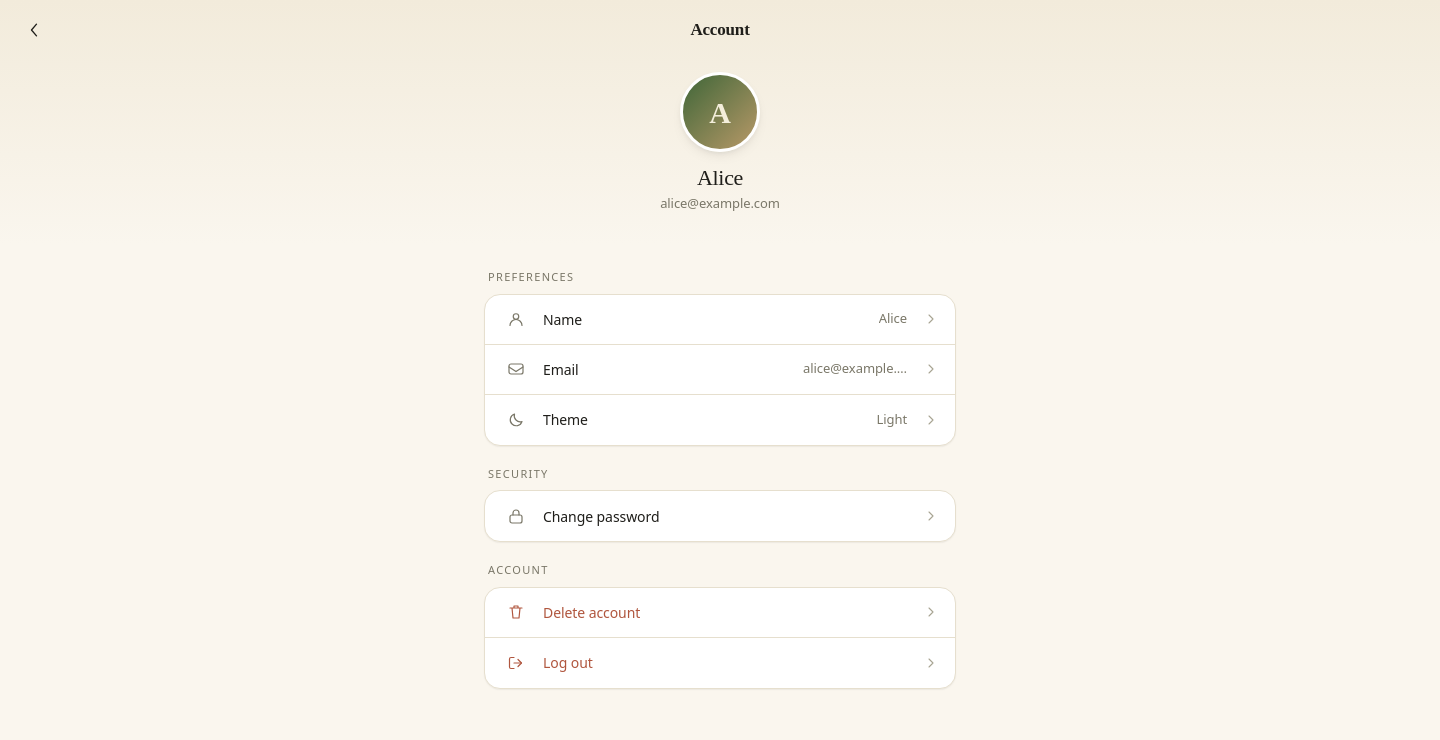
Test: AccountPage › shows validation error when saving an empty name
The image size is (1440, 740).
Click the text "Name": (563,319) [543, 310, 582, 328]
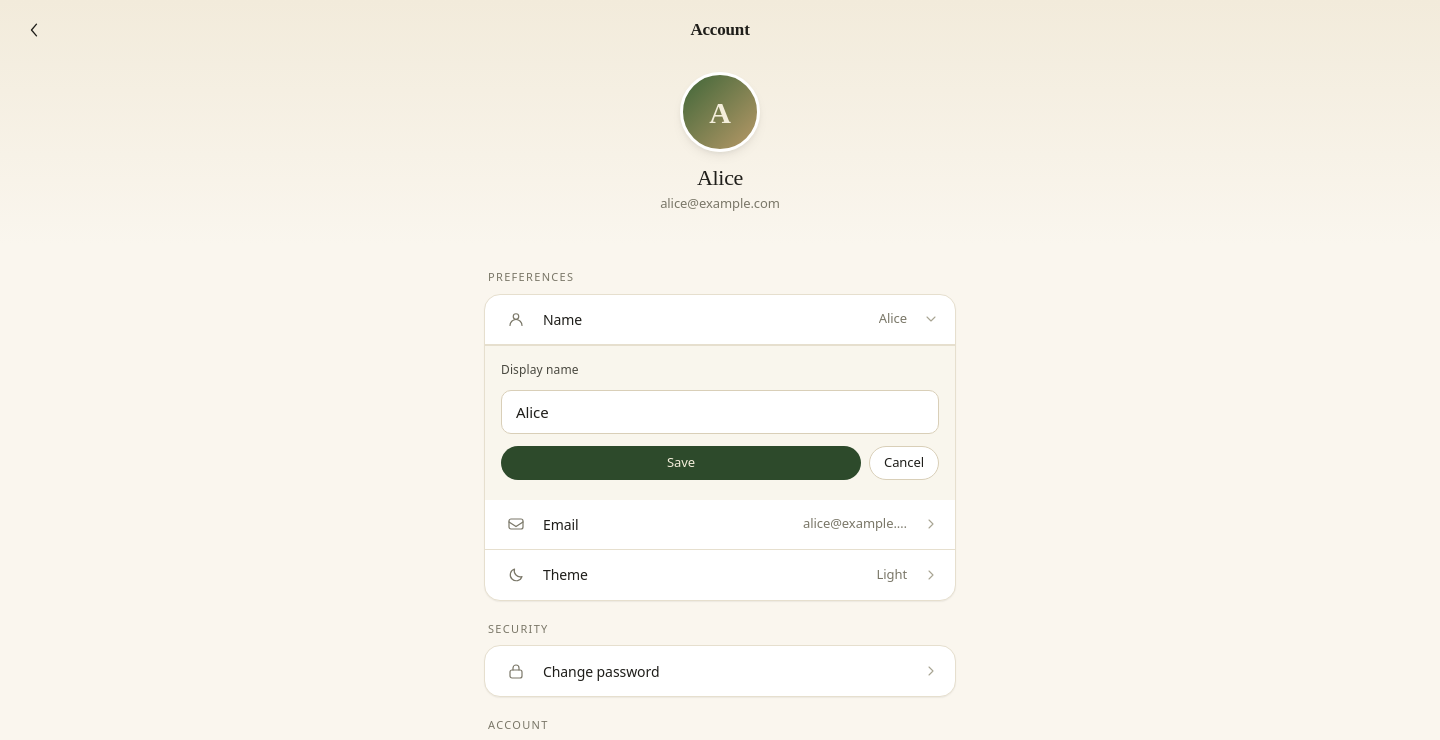
Clear the field labelled "Display name": (720,412) [501, 390, 939, 434]
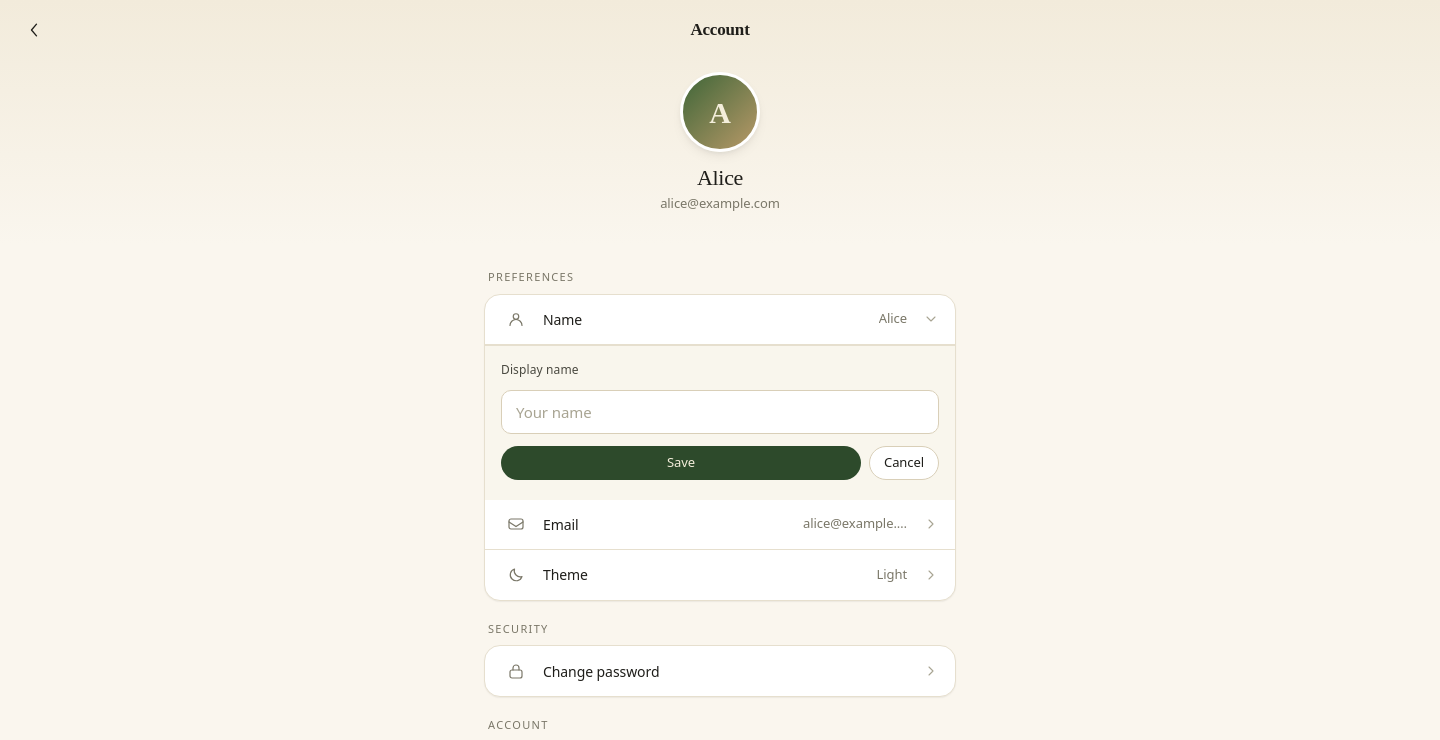
Click the button "Save": (681,462) [501, 446, 861, 480]
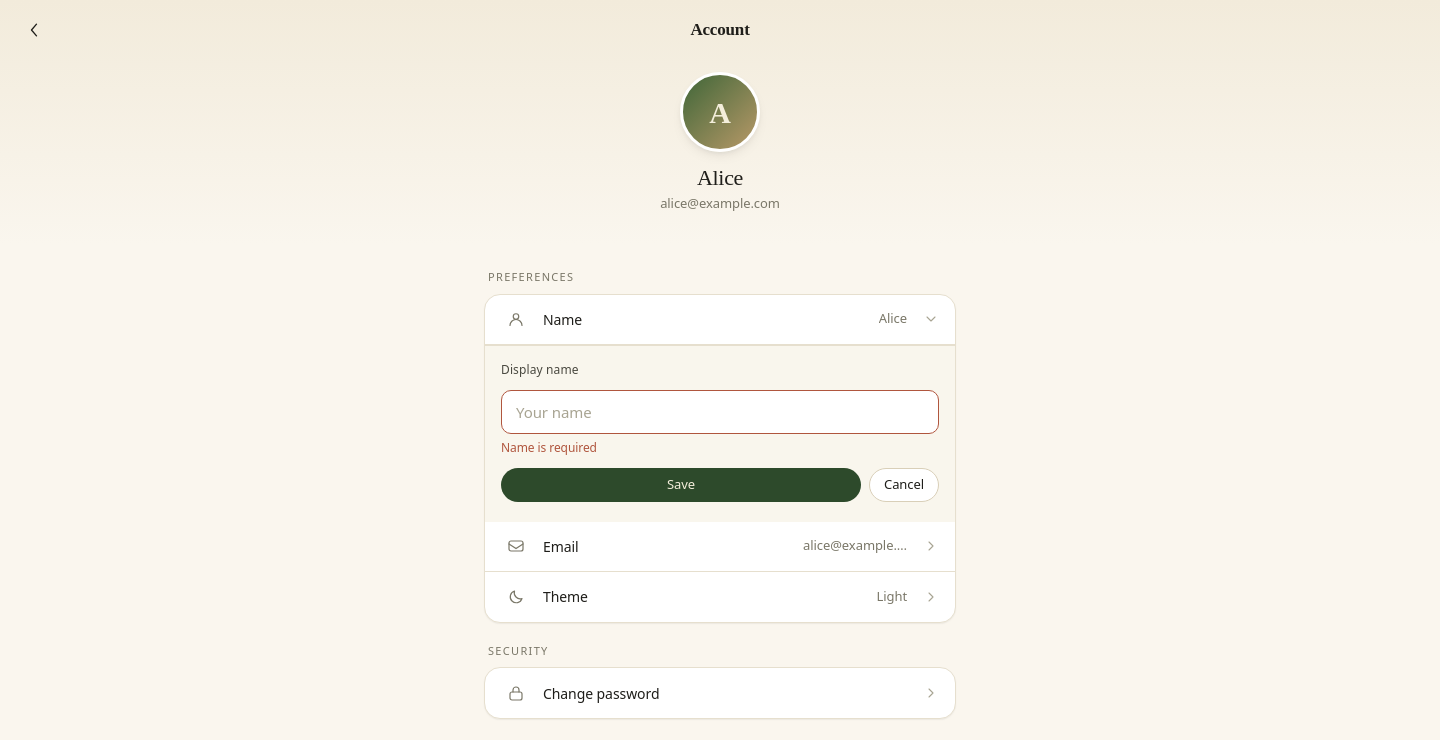
expect the text "Name is required" is shown: met, box [501, 438, 597, 456]
